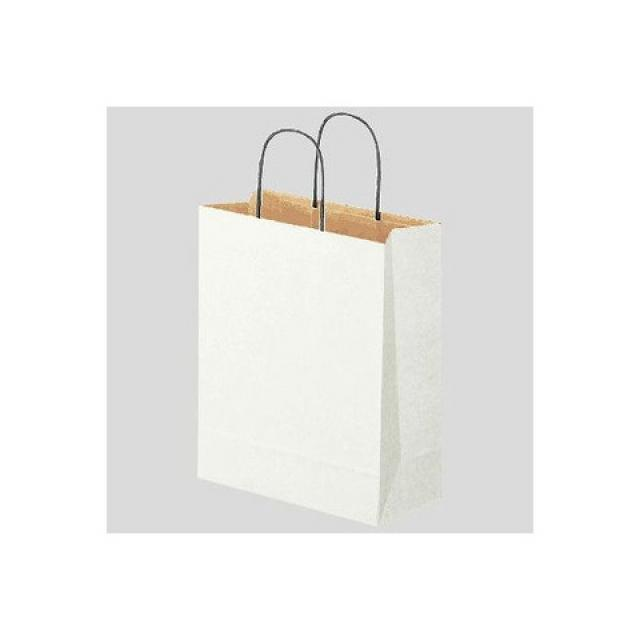paper bag: (190, 110, 459, 530)
